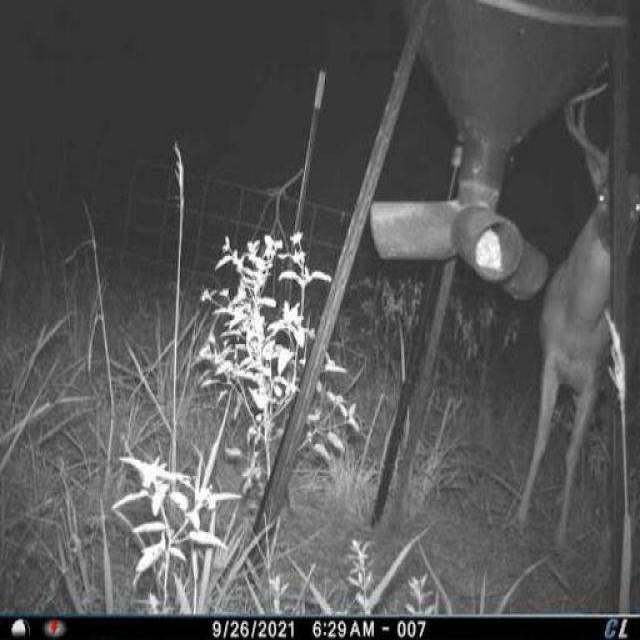deer: (510, 59, 640, 562)
